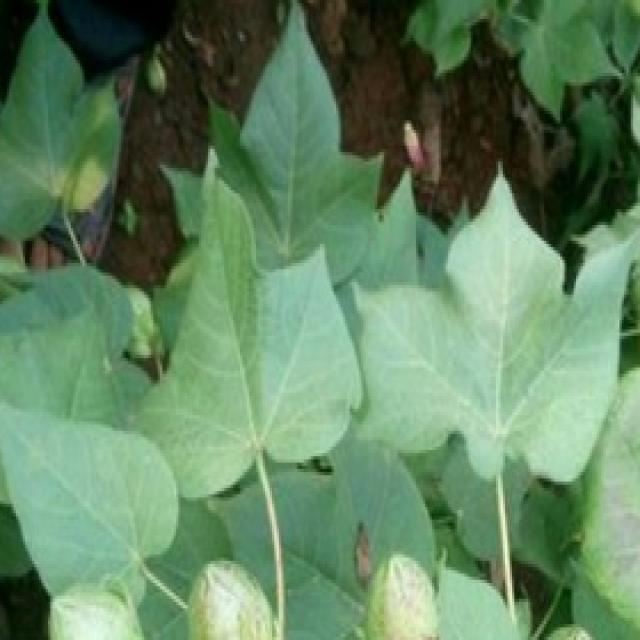Healthy Leaf: (7, 29, 634, 602)
